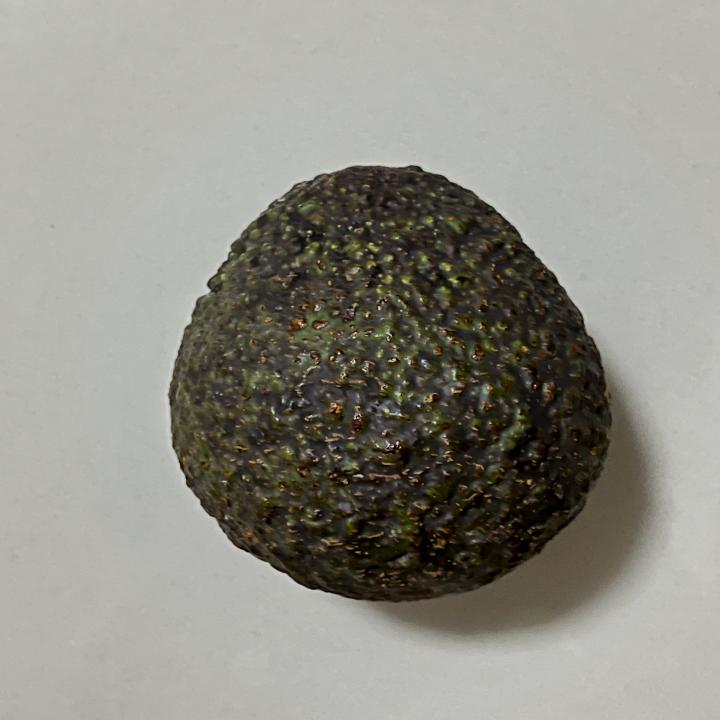Level1: (156, 154, 620, 608)
